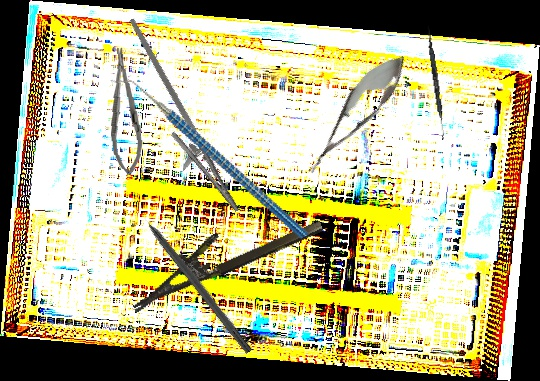Chopper: (109, 31, 310, 284)
Hook Surgical: (133, 204, 255, 355)
Micro Scissor: (295, 43, 417, 185)
Needle Holder: (93, 17, 262, 223), (119, 194, 325, 313), (105, 46, 145, 177)
Spatula Surgical: (424, 26, 448, 140)
